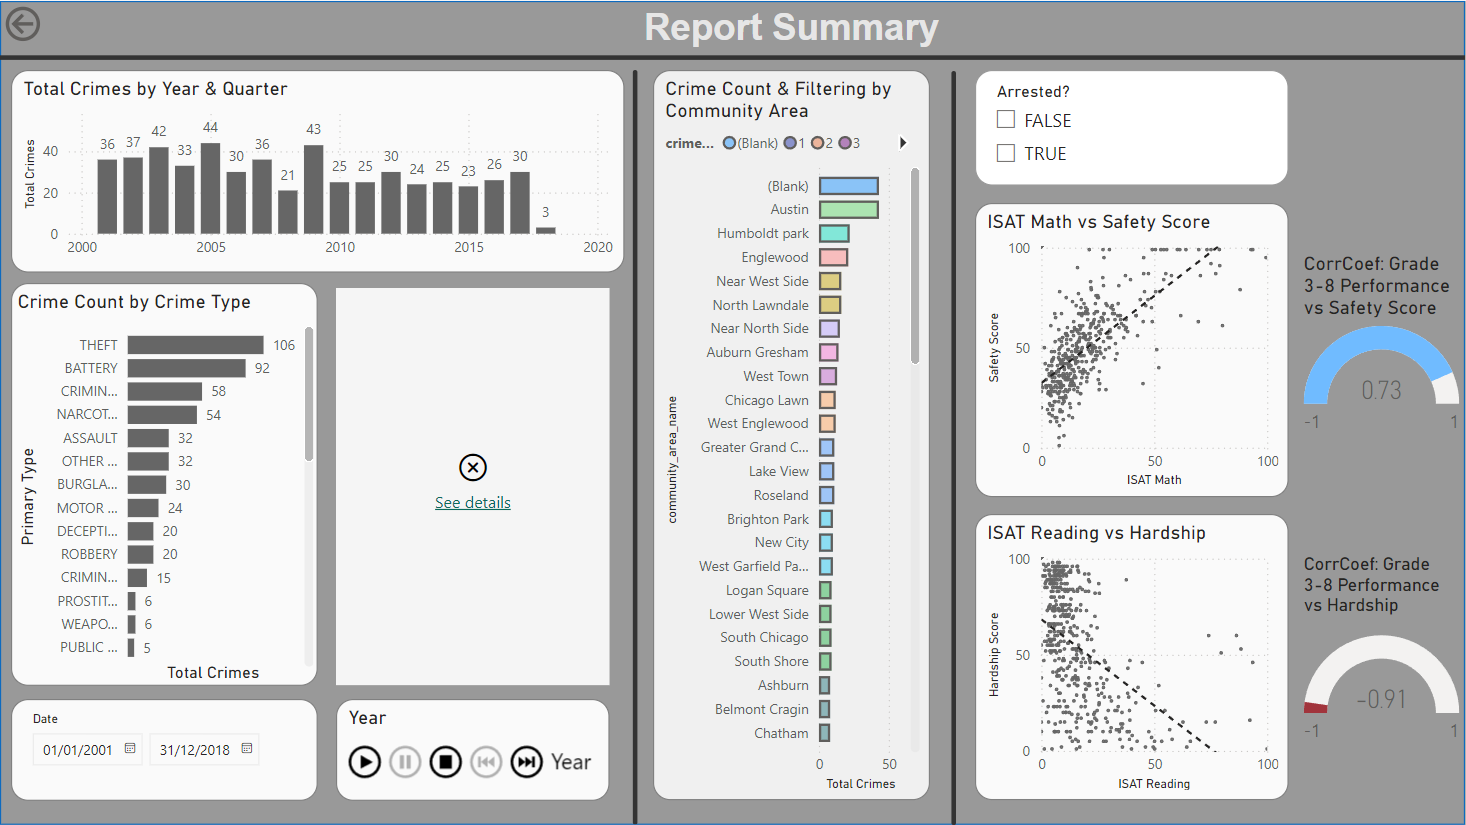

Layout of this report page (visuals, bound fields, positions):
{"tool":"powerbi","page":{"name":"Report Summary","canvas":[1280,720],"ordinal":0},"visuals":[{"type":"shape","box":[0,0,1280,719.8],"z":0},{"type":"columnChart","title":"Total Crimes by Year & Quarter","fields":{"Category":["Calendar.Date.Variation.Date Hierarchy.Year"],"Y":["public crime.Total Crimes"]},"box":[9.7,60.3,535.9,177],"z":1000},{"type":"scatterChart","title":"ISAT Reading vs Hardship","fields":{"Y":["public census.hardship_index"],"X":["public pubschools.isat_exceeding_reading"]},"box":[852,448.4,274.3,250],"z":2000},{"type":"barChart","title":"Crime Count & Filtering by Community Area","fields":{"Category":["CrimeCount GroupedBy Communites.community_area_name"],"Y":["public crime.Total Crimes"],"Series":["CrimeCount GroupedBy Communites.crime_count"]},"box":[570.9,60.3,242.2,638.1],"z":3000},{"type":"map","fields":{"Y":["public crime.latitude"],"X":["public crime.longitude"],"Series":["CrimeCount GroupedBy Communites.crime_count"]},"box":[293.7,250.9,239.3,347.2],"z":4000},{"type":"actionButton","box":[0,0,100,40],"z":5000},{"type":"slicer","fields":{"Values":["Calendar.Date"]},"box":[9.7,609.8,268.4,88.5],"z":6000},{"type":"barChart","title":"Crime Count by Crime Type","fields":{"Y":["public crime.Total Crimes"],"Category":["public crime.primary_type"]},"box":[9.7,246.1,268.4,352.1],"z":7000},{"type":"textbox","box":[548.6,0,278.6,75.7],"z":8000},{"type":"PBI_CV_16948668_E17D_454B_8664_2F2C470EA8C1","fields":{"category":["Calendar.Year"]},"box":[293.7,609.8,239.3,88.5],"z":9000},{"type":"shape","box":[827.2,61.1,11.7,658.9],"z":10000},{"type":"scatterChart","title":"ISAT Math vs Safety Score","fields":{"X":["public pubschools.isat_exceeding_math"],"Y":["public pubschools.safety_score"]},"box":[852,176.1,274.3,256.8],"z":11000},{"type":"gauge","title":"CorrCoef: Grade 3-8 Performance vs Safety Score","fields":{"Y":["Sum(What affects ISATs results.safety_isat_corr)"],"MaxValue":["Query1.CorrCoefMax"],"MinValue":["Query1.CorrCoefMin"]},"box":[1134.1,218.9,145.9,171.2],"z":12000},{"type":"gauge","title":"CorrCoef: Grade 3-8 Performance vs Hardship","fields":{"MaxValue":["Query1.CorrCoefMax"],"MinValue":["Query1.CorrCoefMin"],"Y":["Sum(SocioEcnmcs' impact on StudPerf declines over time.hard_3_5_gradelvl_corr)"]},"box":[1134.1,482.4,145.9,188.7],"z":13000},{"type":"shape","box":[0,31.1,1280,36],"z":14000},{"type":"shape","box":[549.5,60.3,10.7,659.5],"z":15000},{"type":"slicer","title":"A","fields":{"Values":["public crime.arrest"]},"box":[852,60.3,274.3,101.2],"z":18000}]}

Visuals, with their boxes in screenshot pixels (x1, y1, x2, y2), scaled from the page's 1280x720 canvas onto the 1466x825 screenshot:
shape: Rect(0, 0, 1465, 824)
"Total Crimes by Year & Quarter" columnChart: Rect(11, 69, 625, 272)
"ISAT Reading vs Hardship" scatterChart: Rect(976, 514, 1290, 800)
"Crime Count & Filtering by Community Area" barChart: Rect(654, 69, 931, 800)
map - public crime.latitude x public crime.longitude: Rect(336, 287, 610, 685)
actionButton: Rect(0, 0, 115, 46)
slicer - Calendar.Date: Rect(11, 699, 319, 800)
"Crime Count by Crime Type" barChart: Rect(11, 282, 319, 685)
textbox: Rect(628, 0, 947, 87)
PBI_CV_16948668_E17D_454B_8664_2F2C470EA8C1 - Calendar.Year: Rect(336, 699, 610, 800)
shape: Rect(947, 70, 961, 824)
"ISAT Math vs Safety Score" scatterChart: Rect(976, 202, 1290, 496)
"CorrCoef: Grade 3-8 Performance vs Safety Score" gauge: Rect(1299, 251, 1465, 447)
"CorrCoef: Grade 3-8 Performance vs Hardship" gauge: Rect(1299, 553, 1465, 769)
shape: Rect(0, 36, 1465, 77)
shape: Rect(629, 69, 642, 824)
"A" slicer: Rect(976, 69, 1290, 185)
